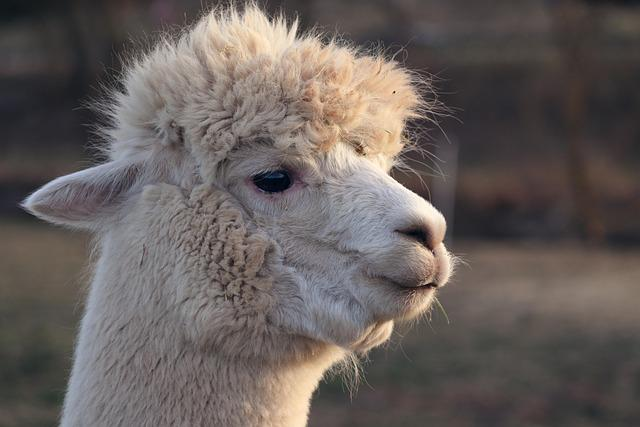Non_Gorille: (44, 0, 520, 427)
